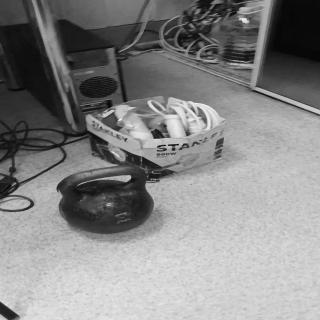kettlebell: (56, 164, 161, 236)
